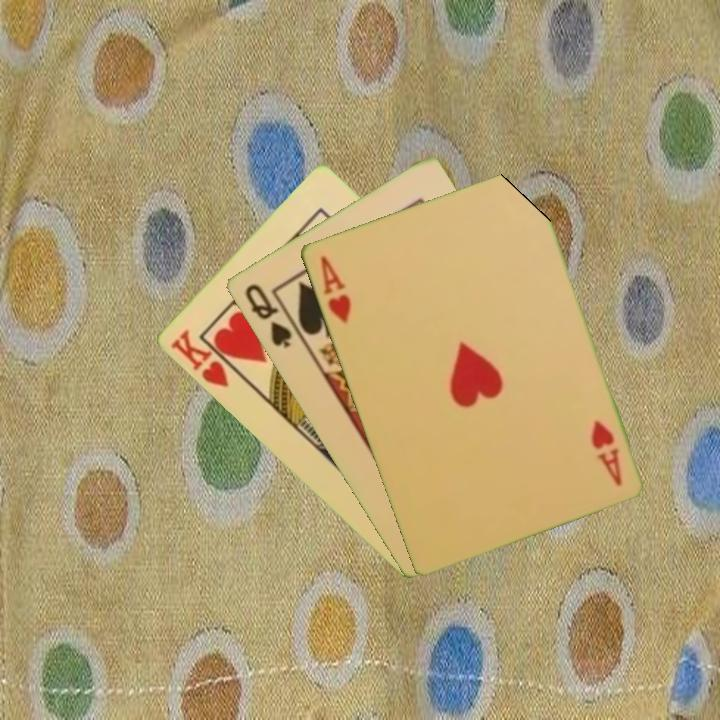Ah: (316, 251, 354, 326), (587, 417, 624, 489)
Kh: (166, 325, 244, 390)
Qs: (240, 280, 295, 352)
